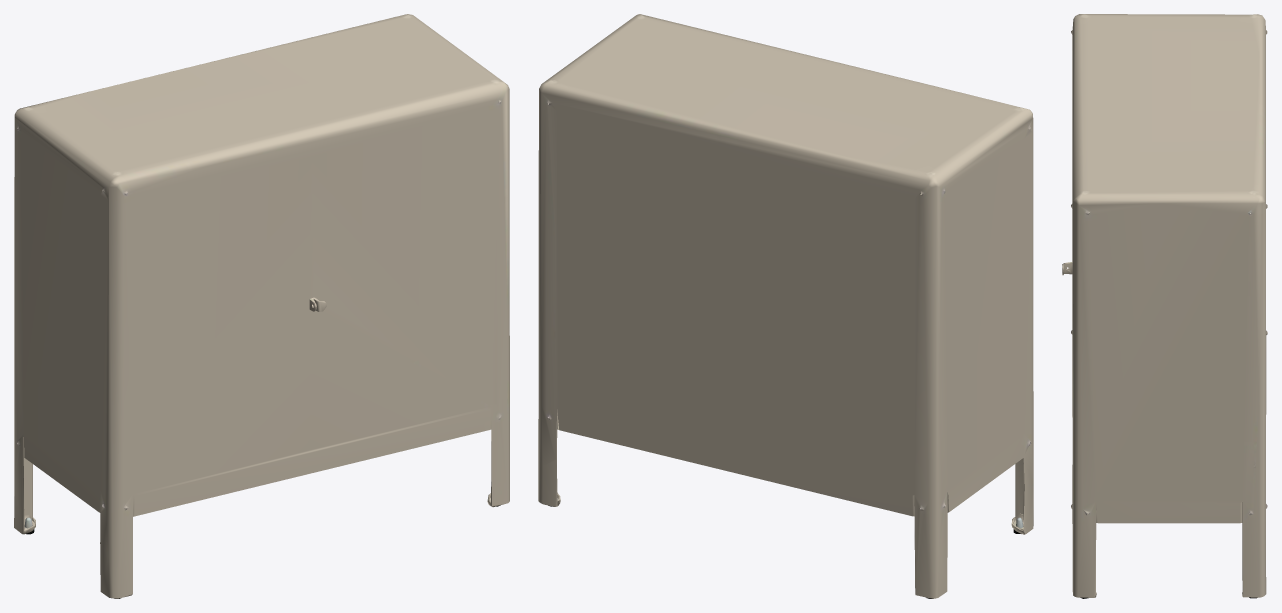
The model's file is 30409295-mini.glb.
3 views of the same model, side by side, from view 1: azimuth 30°, elevation 25°; view 2: azimuth 150°, elevation 25°; view 3: azimuth 270°, elevation 25° (orthographic). The views are drawn at different scales.
Parts seen in each view (by area): view 1: 30409295-KOLBJÃƒâ€“RN001; view 2: 30409295-KOLBJÃƒâ€“RN001; view 3: 30409295-KOLBJÃƒâ€“RN001.
Boxes of the visible parts, x1=… form: 30409295-KOLBJÃƒâ€“RN001: x1=14, y1=14, x2=509, y2=598; 30409295-KOLBJÃƒâ€“RN001: x1=538, y1=14, x2=1033, y2=598; 30409295-KOLBJÃƒâ€“RN001: x1=1062, y1=14, x2=1267, y2=598.
Size of the model in its own units: 0.8069 by 0.8109 by 0.372.
Materials: 1 (1 with a texture image).
